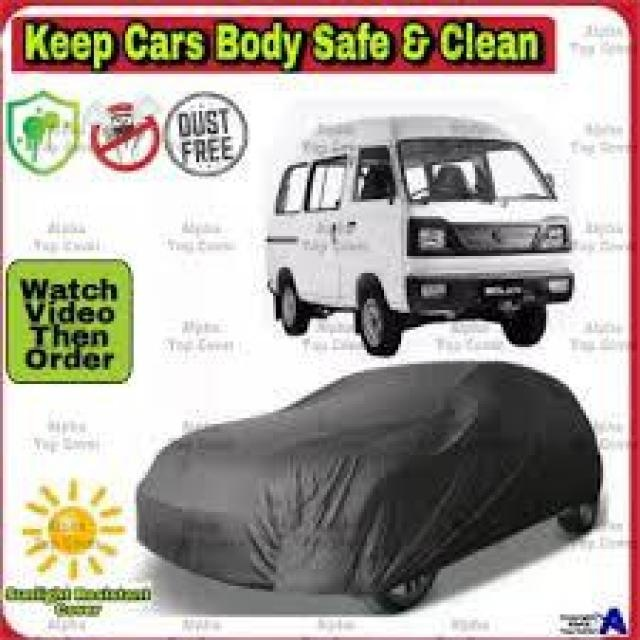Van: (268, 117, 578, 356)
